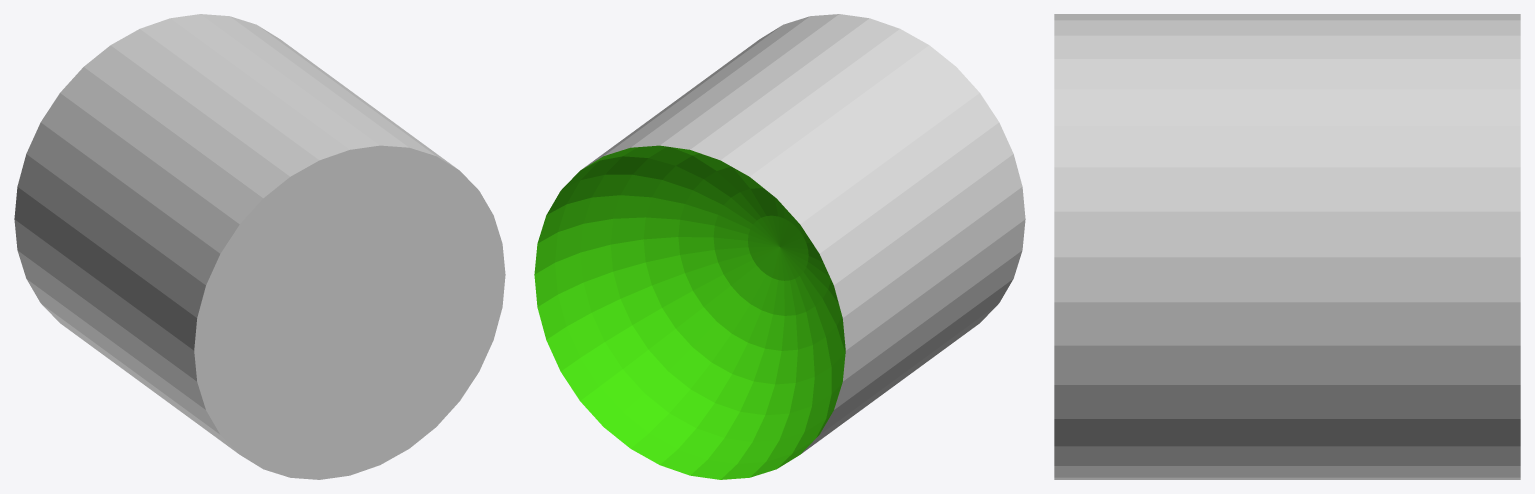
The model's file is Portal.fbx.
3 views of the same model, side by side, from view 1: azimuth 30°, elevation 25°; view 2: azimuth 150°, elevation 25°; view 3: azimuth 270°, elevation 25° (orthographic). The views are drawn at different scales.
Parts seen in each view (by area): view 1: Sphere; view 2: Sphere; view 3: Sphere.
Part boxes in pixels (bbox=[...]): Sphere: bbox=[14, 14, 505, 479]; Sphere: bbox=[534, 14, 1025, 479]; Sphere: bbox=[1054, 14, 1520, 479].
Size of the model in its own units: 2 by 2 by 2.
